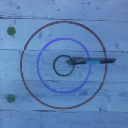Axe Tip: (67, 61, 80, 63)
